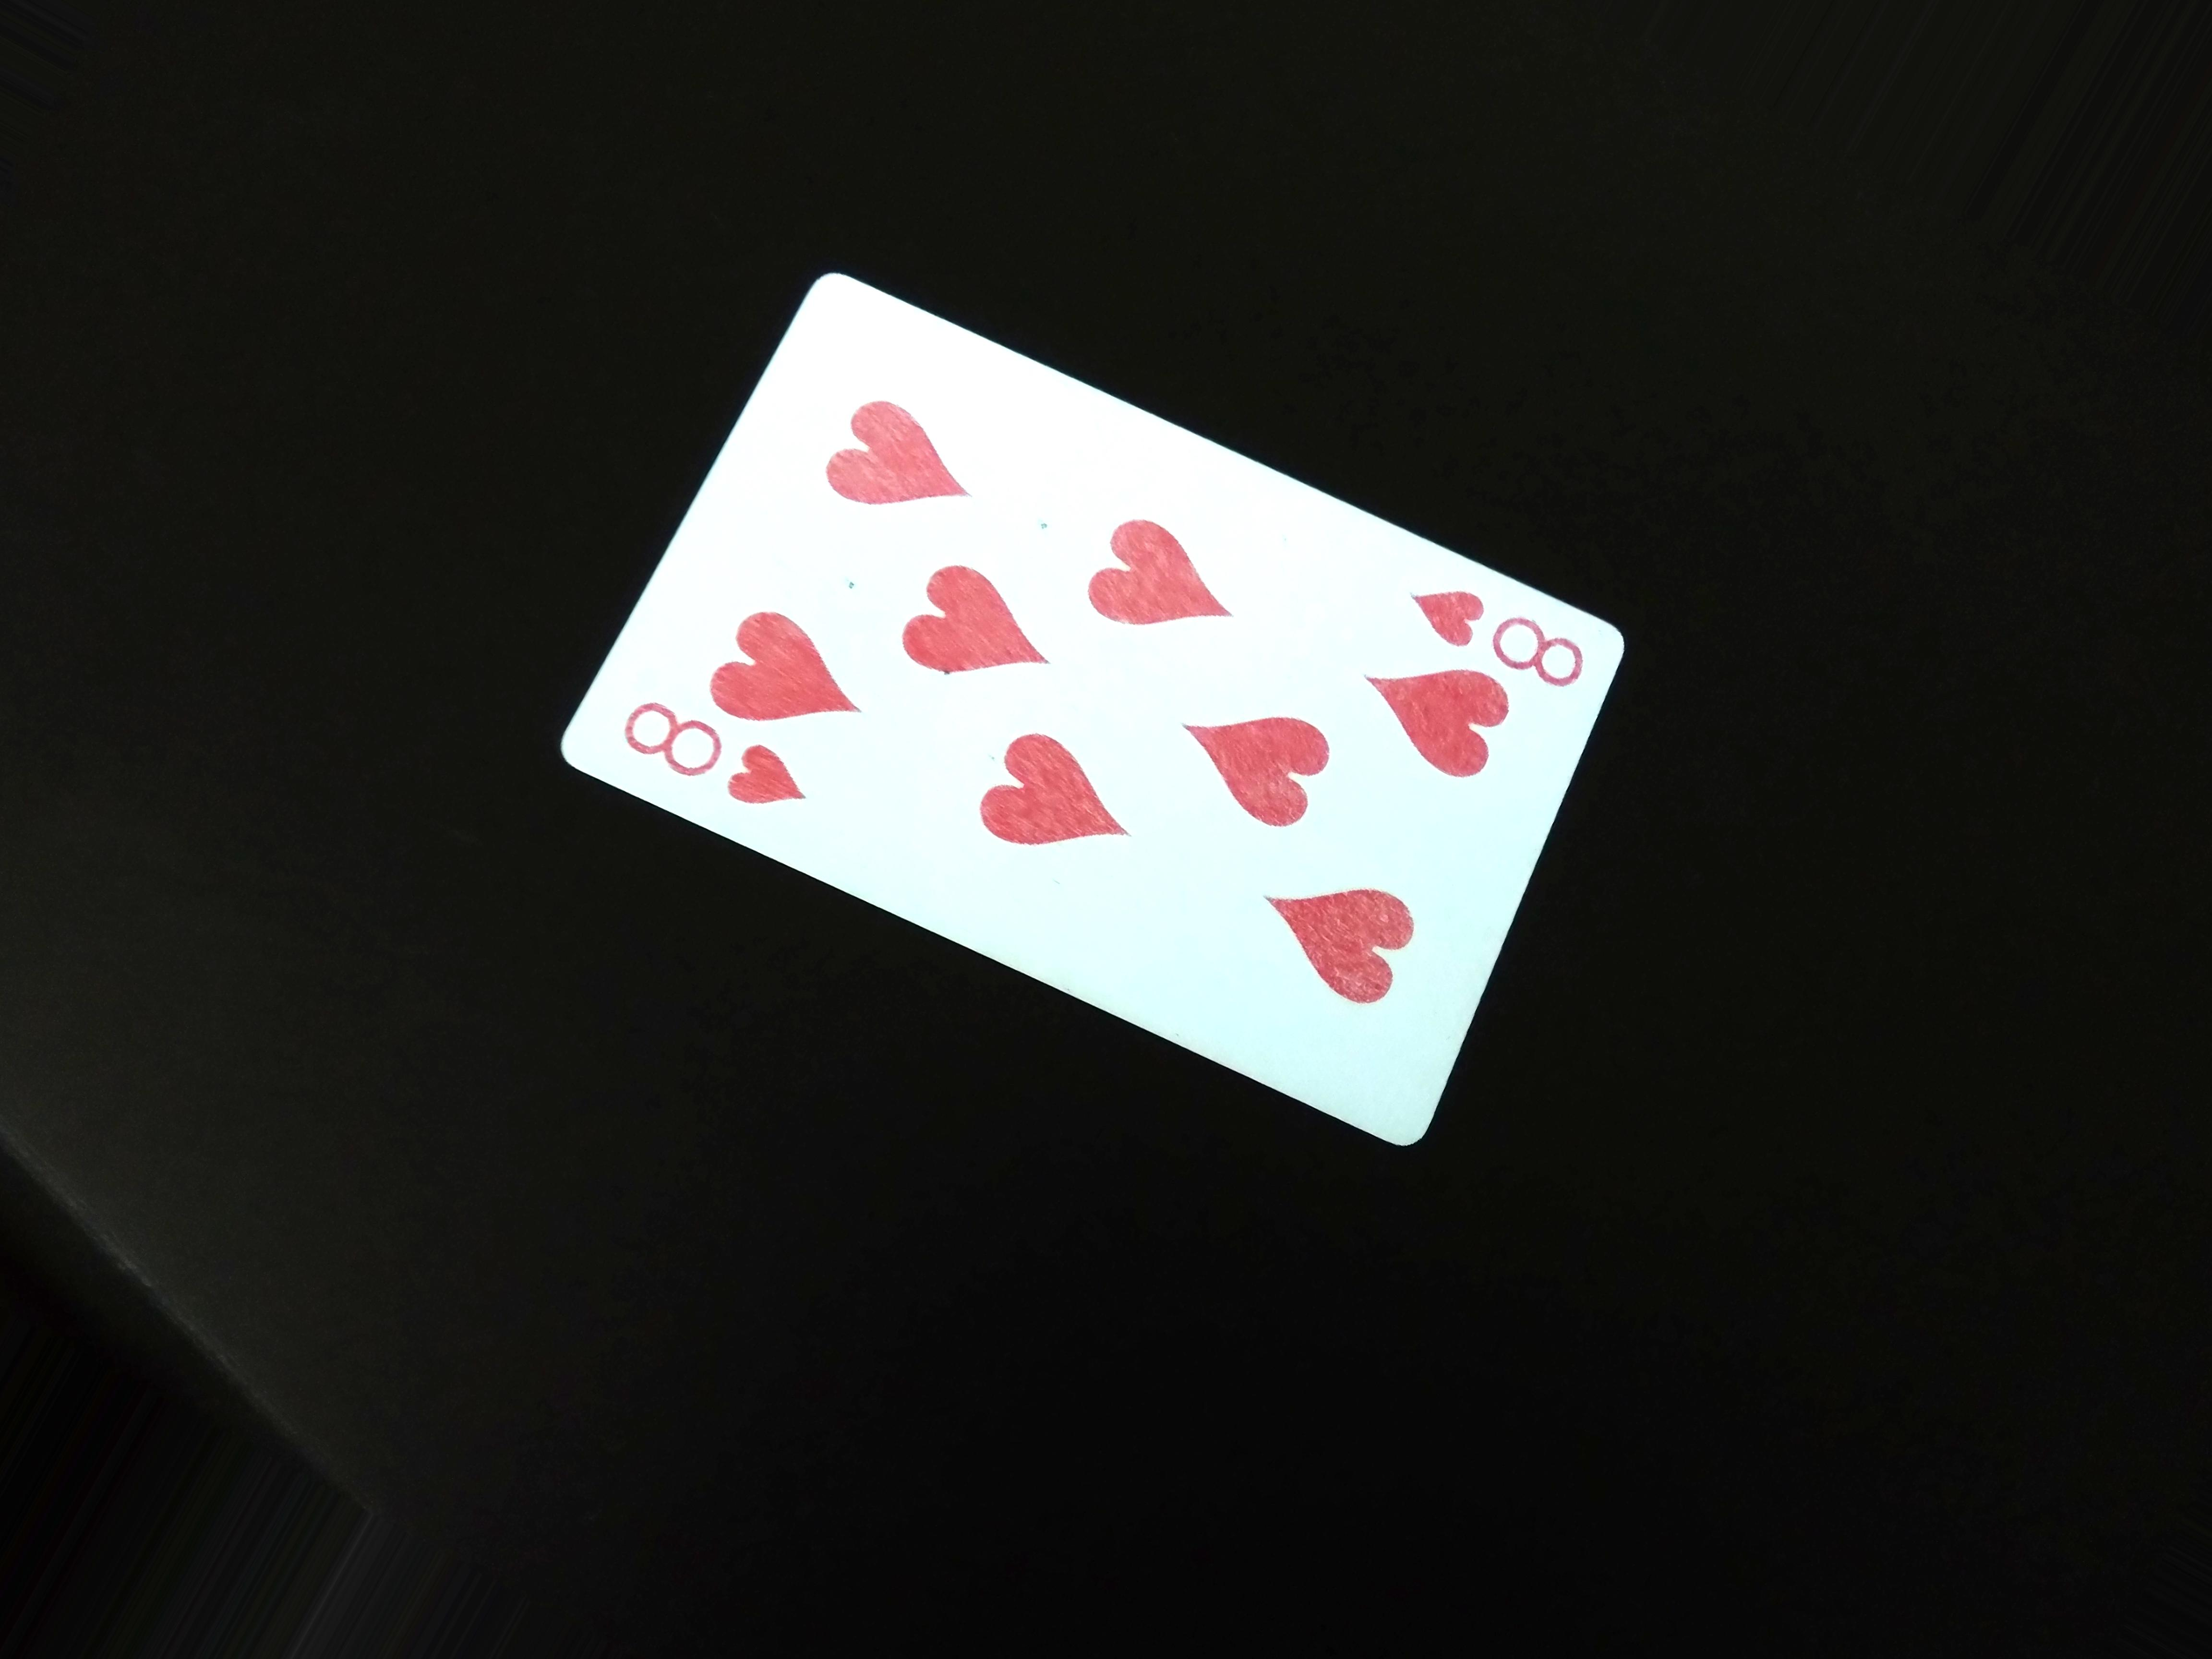8H: (617, 695, 824, 812)
